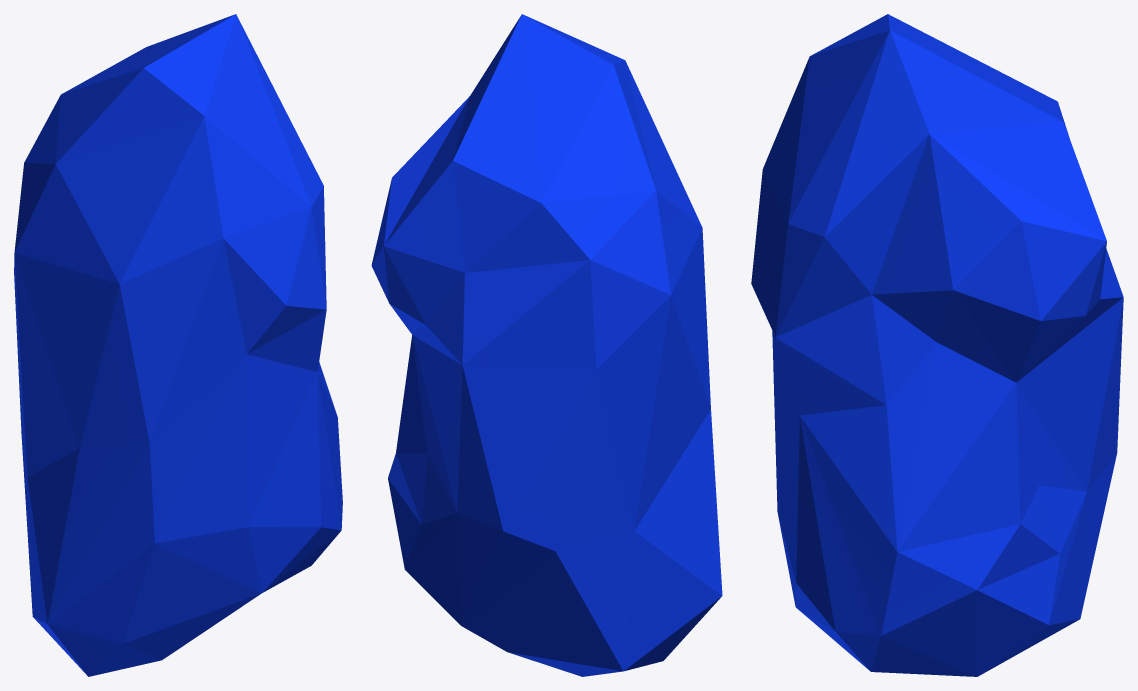
The model's file is SM_emissive_rock_08.fbx.
The picture shows the model from 3 angles, left to right: view 1: azimuth 30°, elevation 25°; view 2: azimuth 150°, elevation 25°; view 3: azimuth 270°, elevation 25°; orthographic projection. The views are drawn at different scales.
Parts seen in each view (by area): view 1: emissive_rock_08; view 2: emissive_rock_08; view 3: emissive_rock_08.
Part boxes in pixels (x1,y1,x2,y2): emissive_rock_08: [14, 14, 342, 676]; emissive_rock_08: [371, 14, 722, 676]; emissive_rock_08: [751, 14, 1123, 676].
Bounding box in the file's own units: 97.71 × 194 × 96.47.
